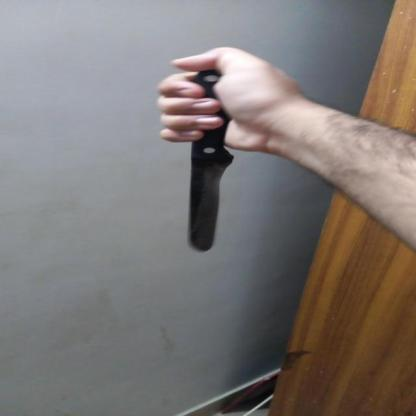Knife: (148, 50, 278, 262)
